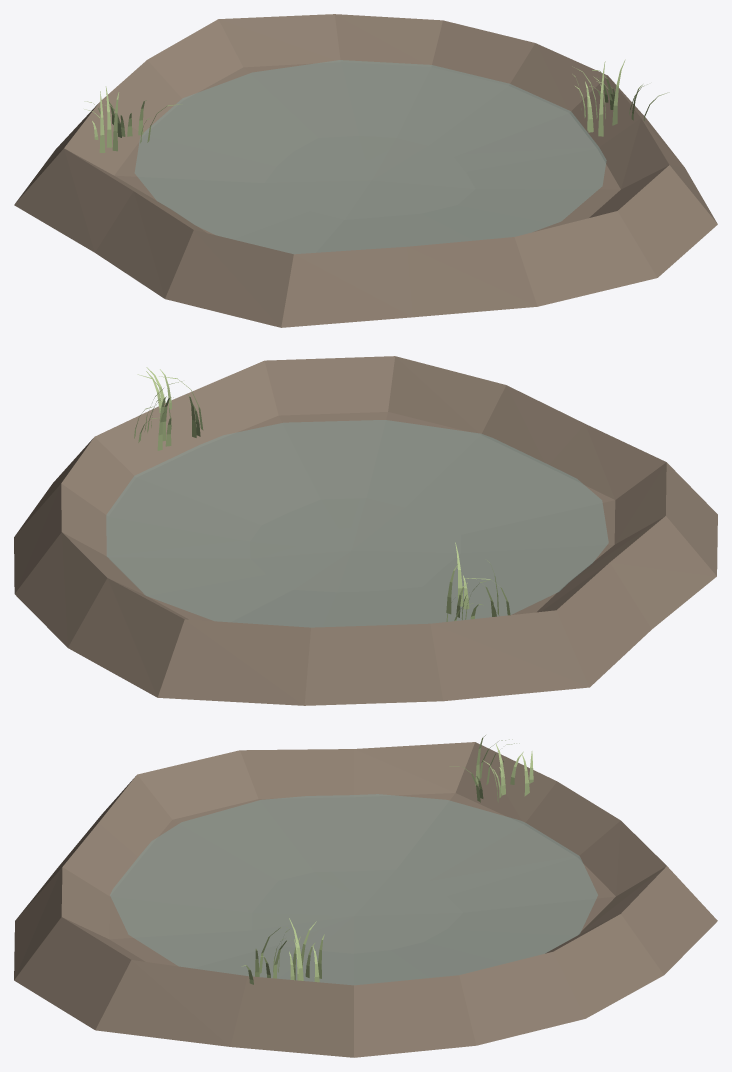
File: temperate-forest-ecology-woodland-pool-34916ba2__3882.glb
3 renders of one model, top to bottom at view 1: azimuth 30°, elevation 25°; view 2: azimuth 150°, elevation 25°; view 3: azimuth 270°, elevation 25°, orthographic. The views are drawn at different scales.
Parts seen in each view (by area): view 1: woodland-pool; view 2: woodland-pool; view 3: woodland-pool.
Part boxes in pixels (x1,y1,x2,y2): woodland-pool: (14, 14, 717, 327); woodland-pool: (14, 356, 717, 705); woodland-pool: (14, 735, 717, 1057).
Size of the model in its own units: 4.68 by 0.752 by 4.96.
